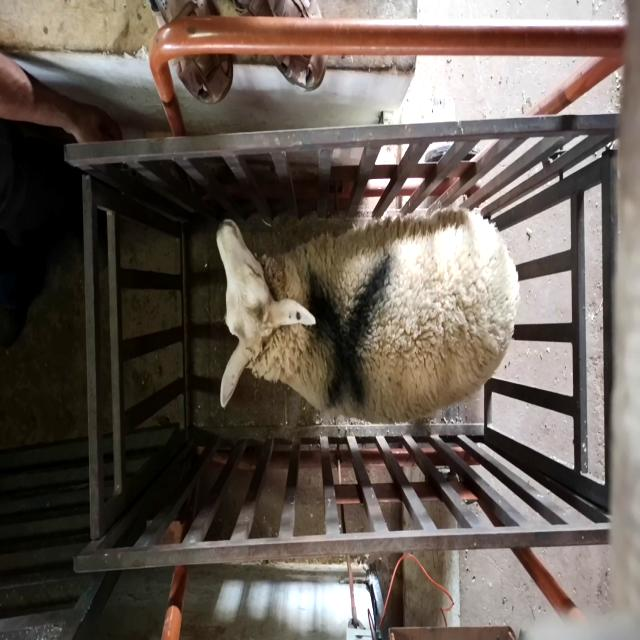sheep: (215, 210, 520, 424)
